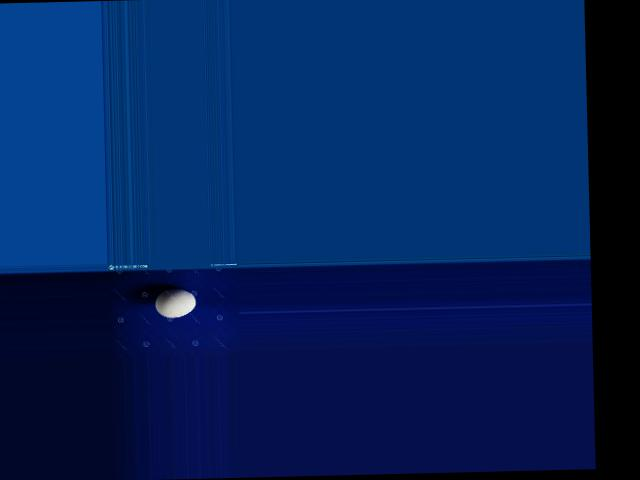egg: (155, 287, 196, 317)
